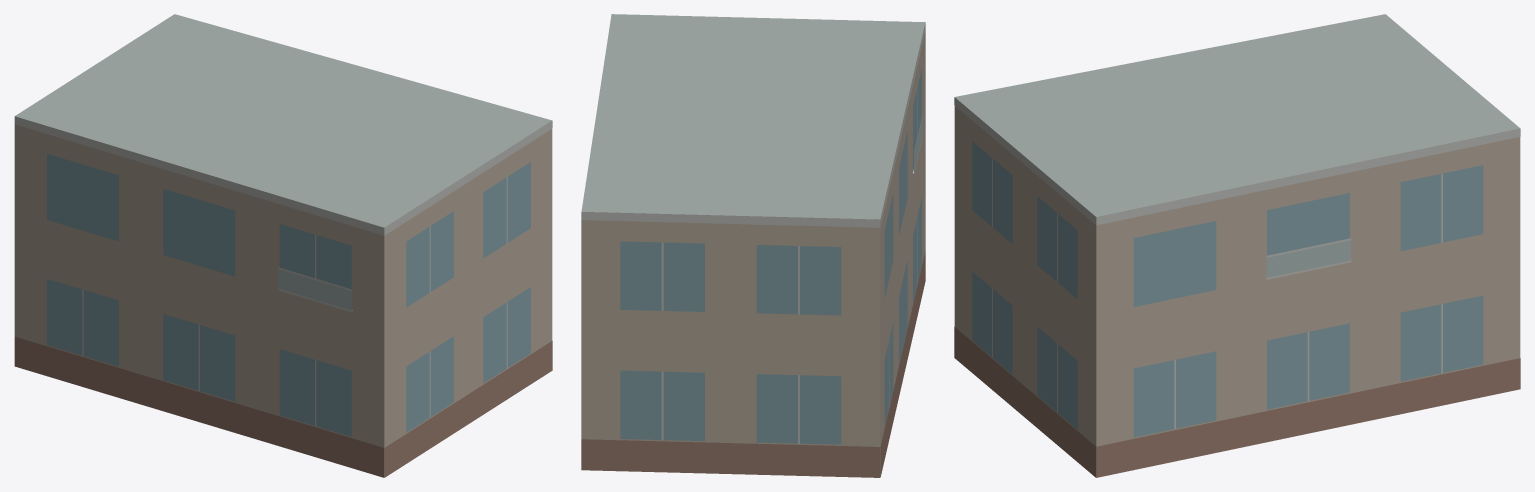
Rendered from survey-upis-33016400.glb.
3 views of the same model, side by side, from view 1: azimuth 30°, elevation 25°; view 2: azimuth 150°, elevation 25°; view 3: azimuth 270°, elevation 25° (orthographic). The views are drawn at different scales.
Parts seen in each view (by area): view 1: survey-upis-33016400.tmp; view 2: survey-upis-33016400.tmp; view 3: survey-upis-33016400.tmp.
Part boxes in pixels (x1,y1,x2,y2): survey-upis-33016400.tmp: (14, 14, 552, 477); survey-upis-33016400.tmp: (581, 14, 925, 477); survey-upis-33016400.tmp: (954, 14, 1520, 477).
Size of the model in its own units: 12.7 by 7.6 by 14.96.
